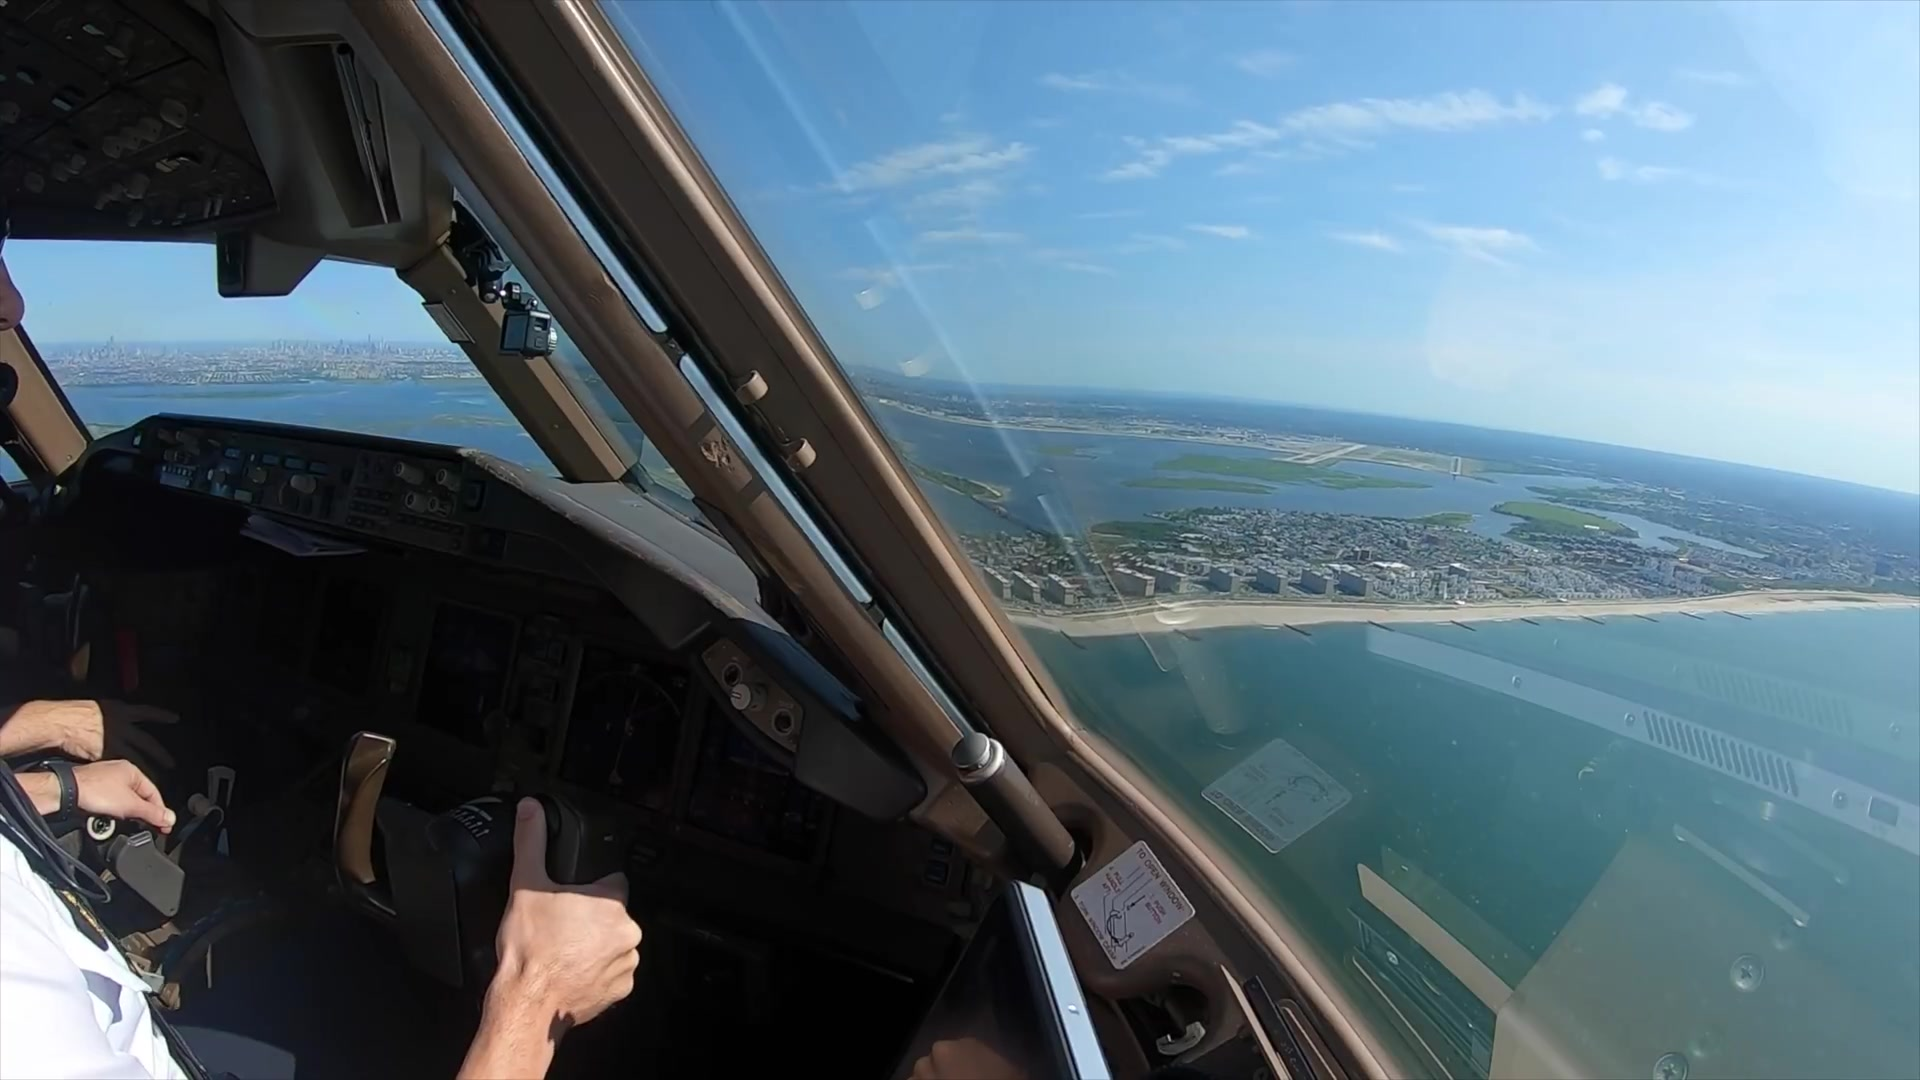runway: (1302, 443, 1367, 464), (1447, 456, 1465, 476)
